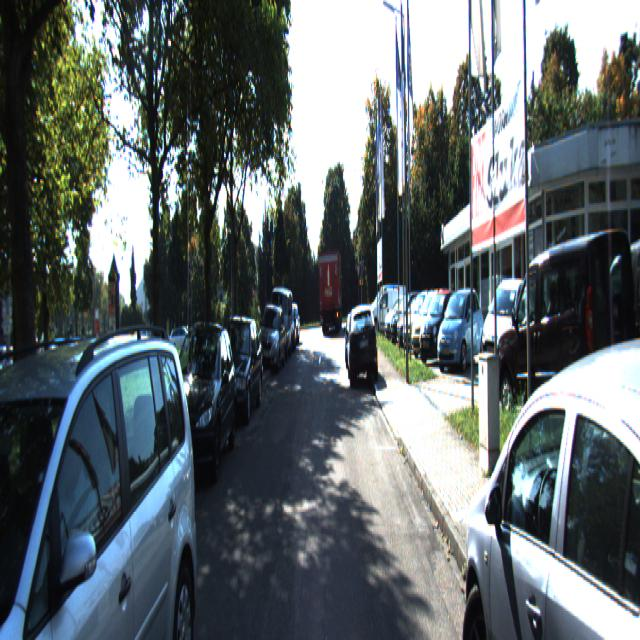Car: (0, 321, 205, 638), (460, 311, 640, 638), (496, 212, 640, 438), (159, 320, 239, 497), (576, 203, 640, 420), (209, 310, 264, 428), (479, 276, 535, 381), (435, 286, 488, 374), (418, 287, 462, 365), (410, 292, 455, 362), (346, 302, 379, 389), (256, 302, 286, 374), (319, 250, 343, 335), (266, 288, 293, 362), (370, 287, 404, 336)
